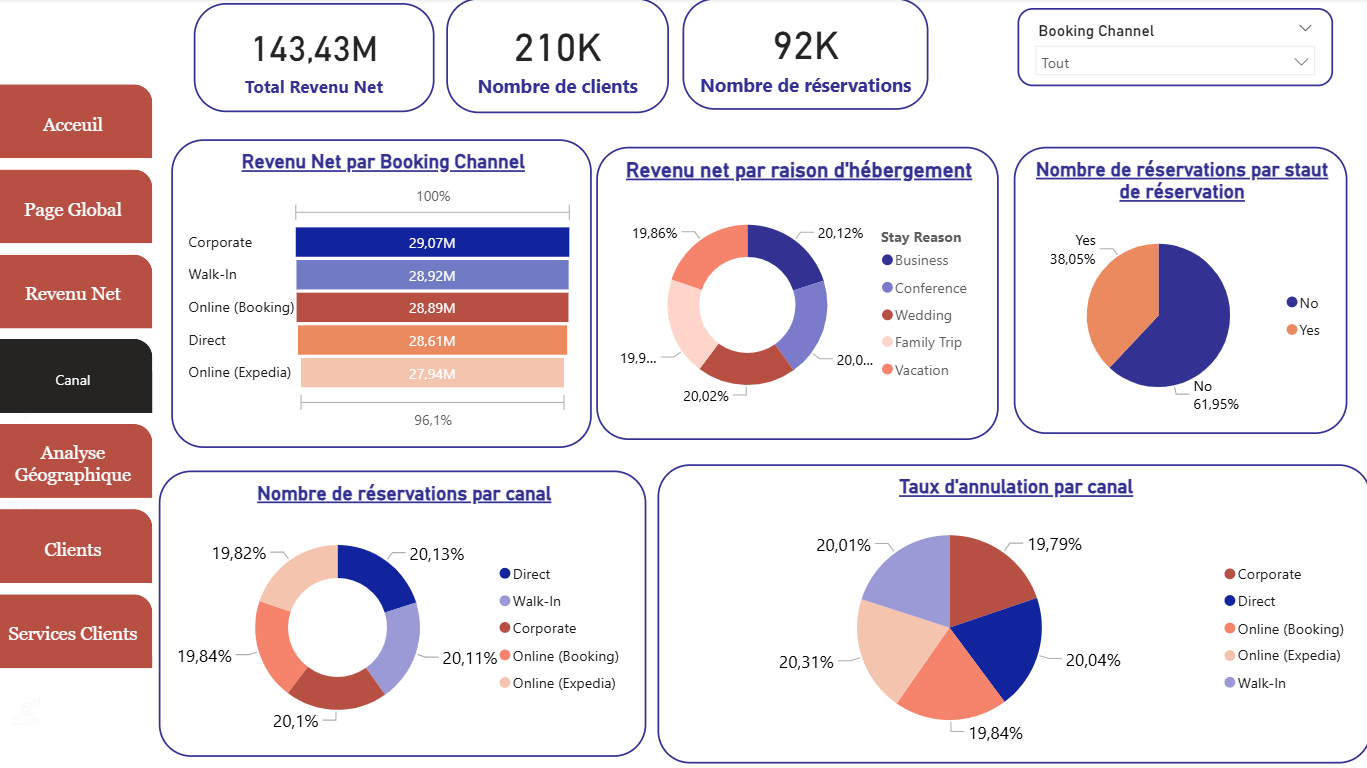

The dashboard page shown, as its layout file describes it:
{"tool":"powerbi","page":{"name":"Canal","canvas":[1280,720],"ordinal":3},"visuals":[{"type":"pieChart","title":"Taux d''annulation par canal","fields":{"Y":["Fact_Reservation.Taux d'Annulation"],"Series":["Dim_BookingChannel.Booking Channel"]},"box":[616.1,433.6,664.2,278.6],"z":0},{"type":"donutChart","title":"Nombre de réservations par canal","fields":{"Category":["Dim_BookingChannel.Booking Channel"],"Y":["Fact_Reservation.NbR"]},"box":[152.9,439,453.7,266.6],"z":1000},{"type":"card","fields":{"Values":["Fact_Reservation.NbR"]},"box":[639.5,0,229.2,104.3],"z":2000},{"type":"funnel","title":"Revenu Net par Booking Channel","fields":{"Category":["Dim_BookingChannel.Booking Channel"],"Y":["Fact_Reservation.Total Revenu Net"]},"box":[161.4,130.8,391.3,287.4],"z":3000},{"type":"card","fields":{"Values":["Fact_Reservation.Total Revenu Net"]},"box":[185.2,4.1,223.7,101.5],"z":4000},{"type":"card","fields":{"Values":["Sum(Fact_Reservation.Total Guests)"]},"box":[419.9,0,207.2,107],"z":5000},{"type":"donutChart","title":"Revenu net par raison d''hébergement","fields":{"Y":["Fact_Reservation.Total Revenu Net"],"Category":["Dim_StayReason.Stay Reason"]},"box":[558.8,138.2,374.2,272.7],"z":6000},{"type":"slicer","fields":{"Values":["Dim_BookingChannel.Booking Channel"]},"box":[950.6,9.1,293.5,72.7],"z":7000},{"type":"pieChart","title":"Nombre de réservations par staut de réservation","fields":{"Y":["Fact_Reservation.NbR"],"Category":["Fact_Reservation.Cancellation Status"]},"box":[948.2,138.6,310.1,267.6],"z":9000},{"type":"image","box":[0,159,44,74.6],"z":10000},{"type":"image","box":[0,239.7,56.3,107.6],"z":11000},{"type":"image","box":[0,335.1,56.3,89.3],"z":12000},{"type":"image","box":[0,423.1,56.3,110.1],"z":13000},{"type":"image","box":[0,539.3,64.8,116.2],"z":14000},{"type":"image","box":[0,628.5,56.3,91.7],"z":15000},{"type":"pageNavigator","box":[3.7,80.7,143.1,547.8],"z":16001}]}

Visuals, with their boxes on the page's 1280x720 design canvas (x1, y1, x2, y2). These are canvas units, not pixel positions in the 1367x768 screenshot, which may show the page scaled, cropped or inside an application window:
"Taux d''annulation par canal" pieChart: select_region(616, 434, 1280, 712)
"Nombre de réservations par canal" donutChart: select_region(153, 439, 607, 706)
card - Fact_Reservation.NbR: select_region(640, 0, 869, 104)
"Revenu Net par Booking Channel" funnel: select_region(161, 131, 553, 418)
card - Fact_Reservation.Total Revenu Net: select_region(185, 4, 409, 106)
card - Sum(Fact_Reservation.Total Guests): select_region(420, 0, 627, 107)
"Revenu net par raison d''hébergement" donutChart: select_region(559, 138, 933, 411)
slicer - Dim_BookingChannel.Booking Channel: select_region(951, 9, 1244, 82)
"Nombre de réservations par staut de réservation" pieChart: select_region(948, 139, 1258, 406)
image: select_region(0, 159, 44, 234)
image: select_region(0, 240, 56, 347)
image: select_region(0, 335, 56, 424)
image: select_region(0, 423, 56, 533)
image: select_region(0, 539, 65, 656)
image: select_region(0, 628, 56, 720)
pageNavigator: select_region(4, 81, 147, 628)
